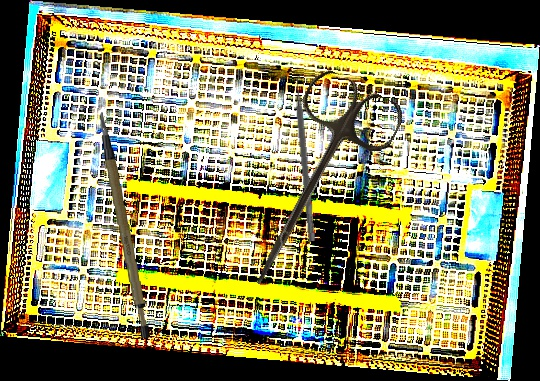Iris Scissors: (218, 64, 409, 309)
Scalpel Handle: (97, 109, 155, 340)
Spatula Surgical: (290, 71, 324, 242)
